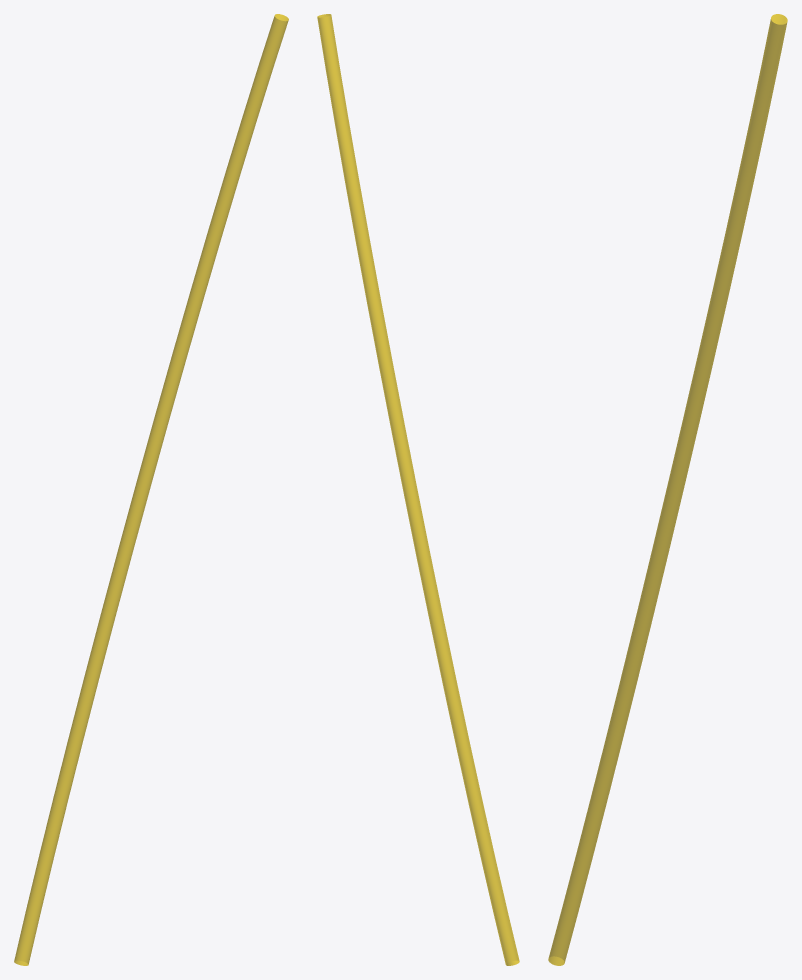
The model's file is Event_75125125_track_42.fbx.
3 renders of one model, left to right at view 1: azimuth 30°, elevation 25°; view 2: azimuth 150°, elevation 25°; view 3: azimuth 330°, elevation 25°, orthographic. The views are drawn at different scales.
Visible parts, largest first — view 1: Model; view 2: Model; view 3: Model.
Part boxes in pixels (x1,y1,x2,y2): Model: (14,14,288,965); Model: (317,14,519,965); Model: (548,14,787,965).
Size of the model in its own units: 0.7421 by 2.69 by 0.2085.
